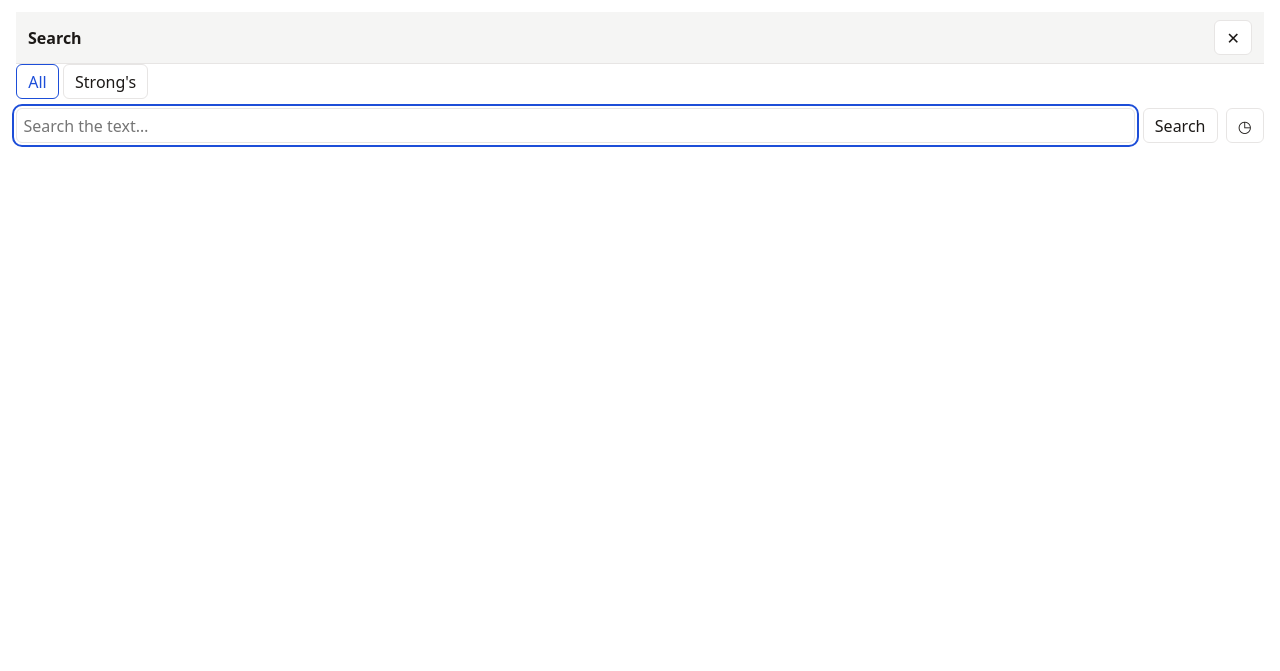
Test case: SearchPanel › opens a group tab, paginates it, and appends without duplicates
In the search field with placeholder "Search the text…": (575, 126) [16,108,1135,143], type "earth"
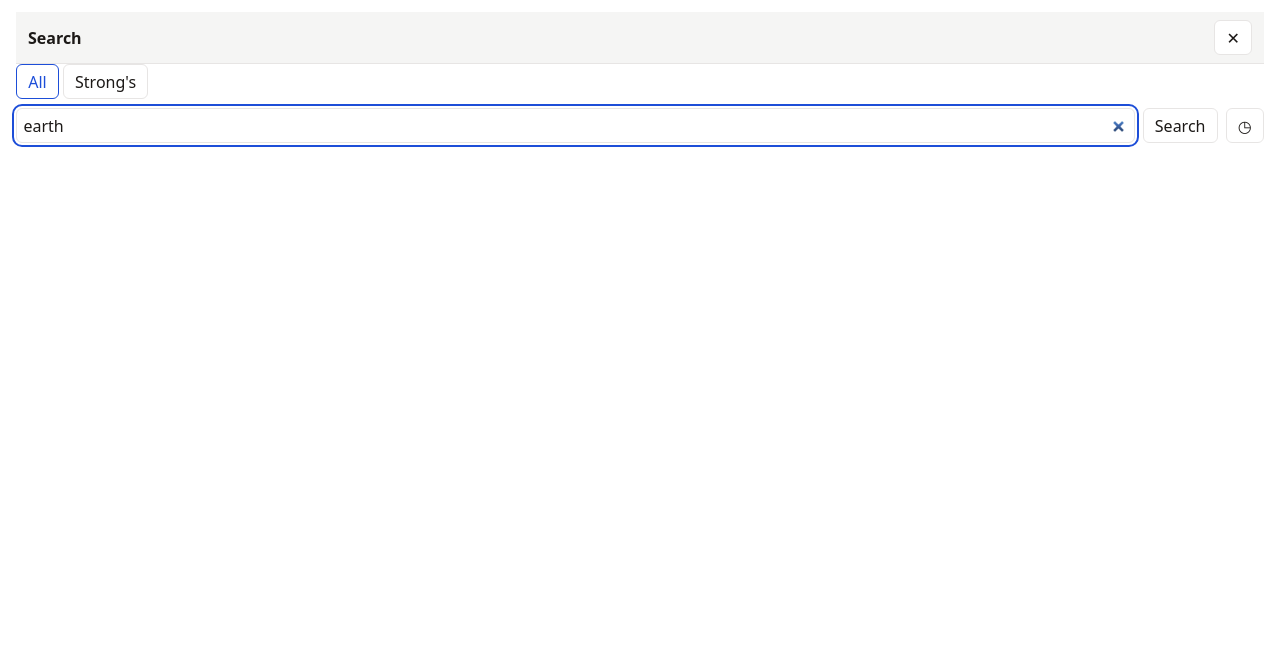
Submit the form "Search", box [16,108,1264,143]
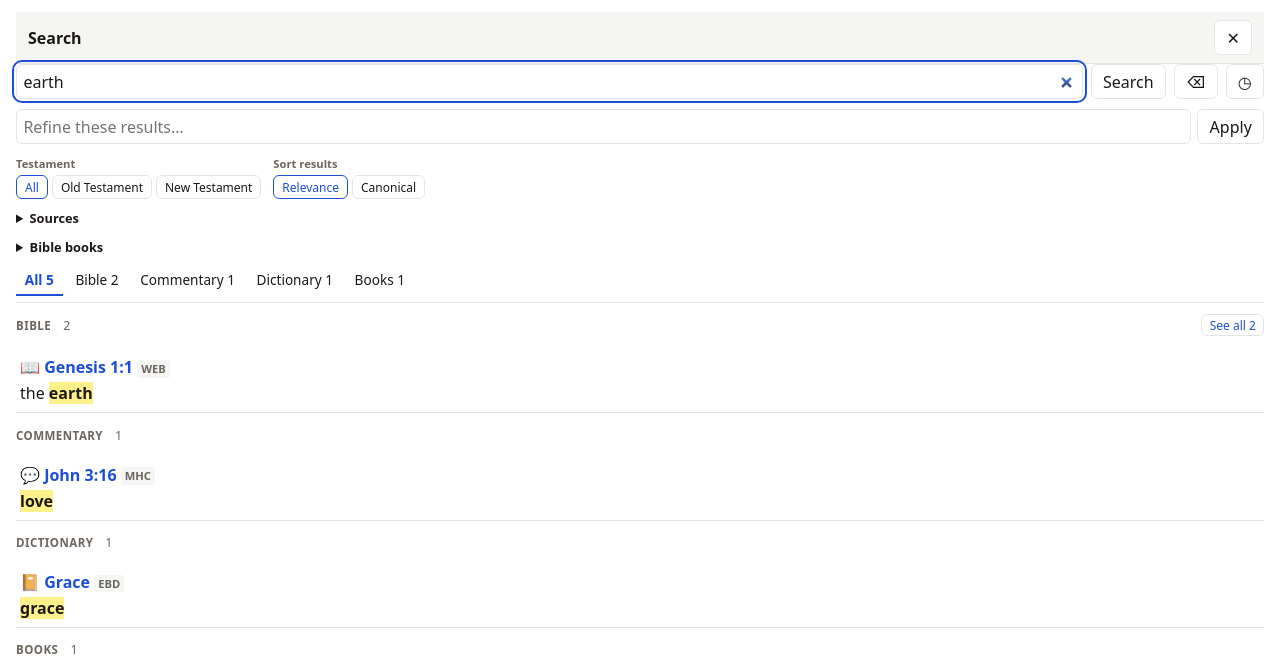
Click the tab "Bible 2": click(97, 281) [67,265,127,296]
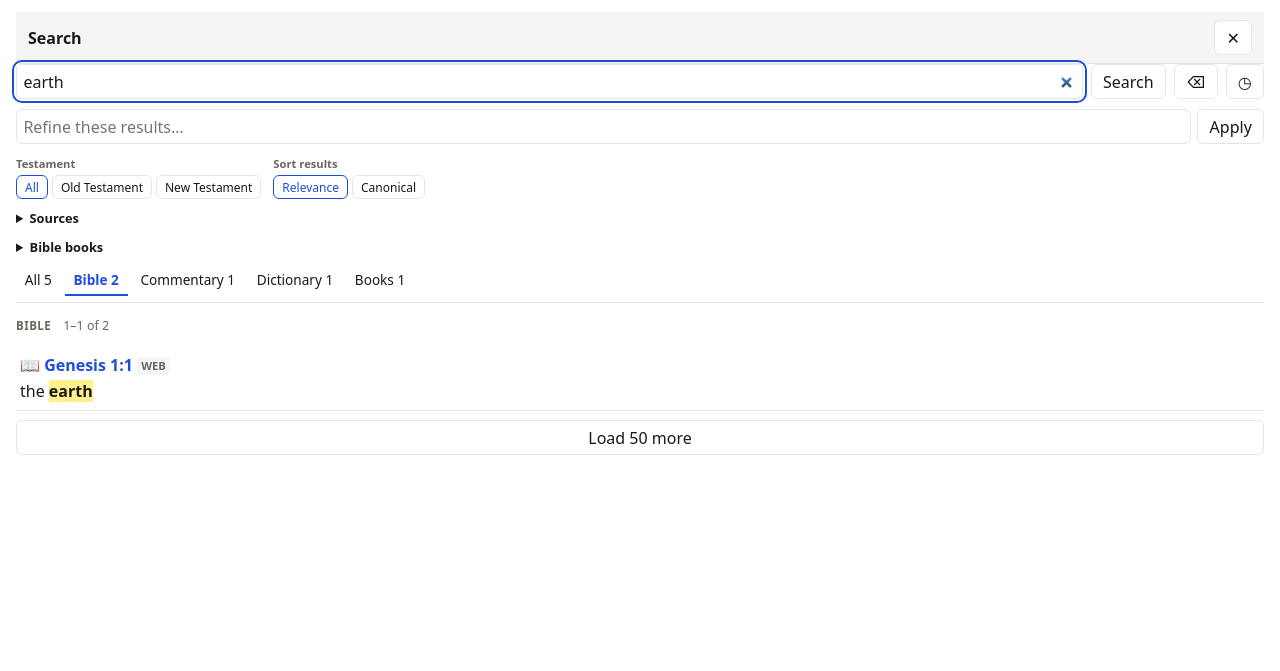
Expected: the text "1–1 of 2" is shown, [63,317,109,334]
Click the button "Load 50 more": click(640, 438) [16,420,1264,456]
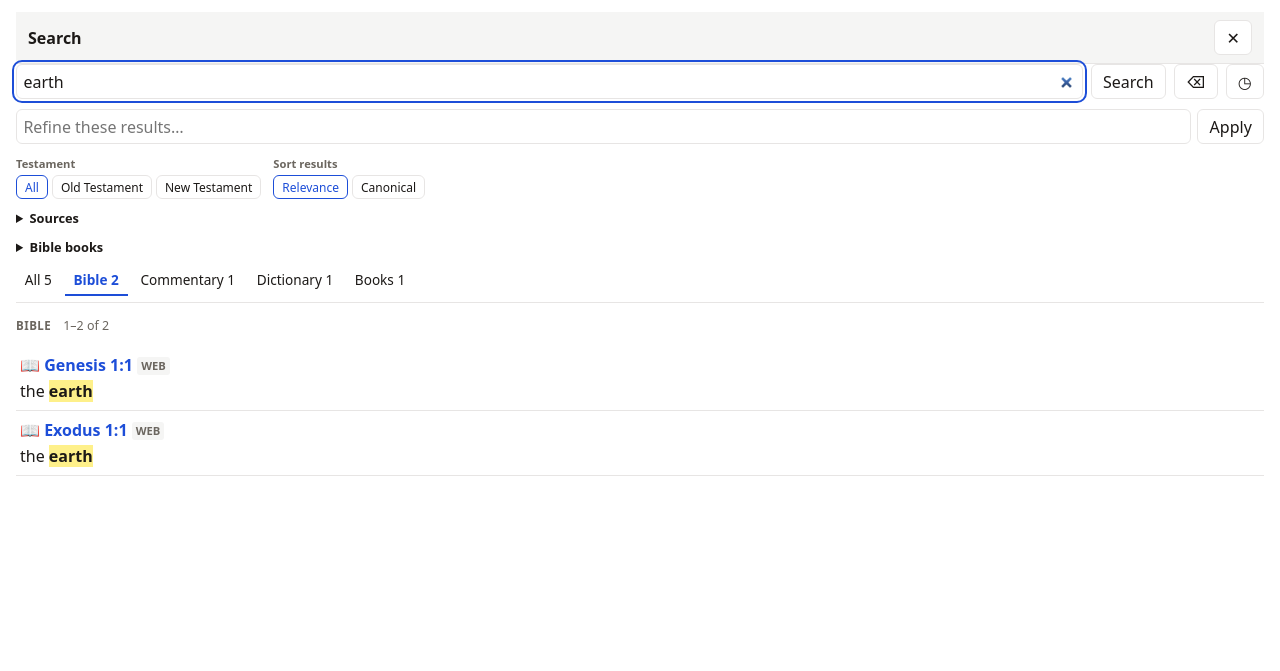
Expected: the text "1–2 of 2" is shown, [63,317,109,334]
Expected: the text "Exodus 1:1" is shown, [44,419,128,441]
Expected: the button "Load 50 more" is gone
